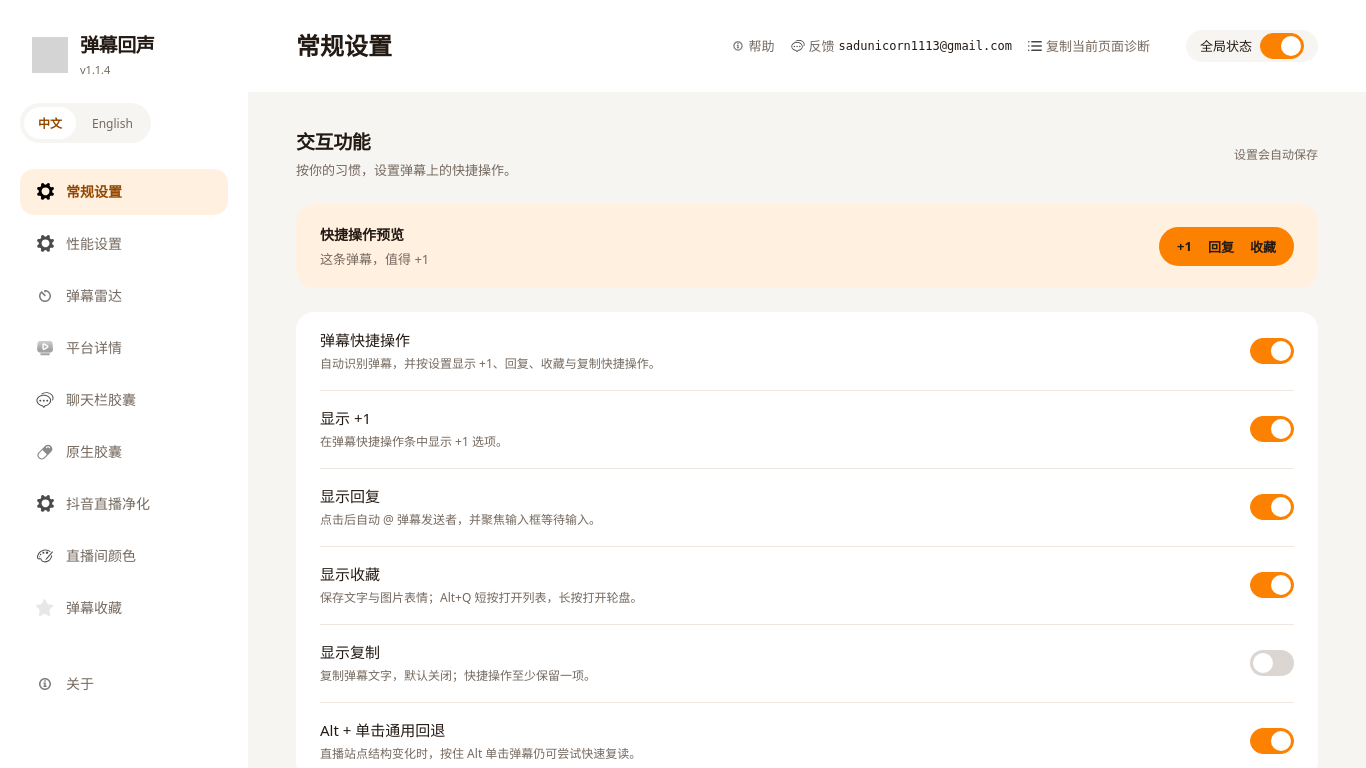
it: settings language preference › restores the previous language and reports failed persistence
Click the button "English".
click(112, 123)  # box [78,107,147,139]
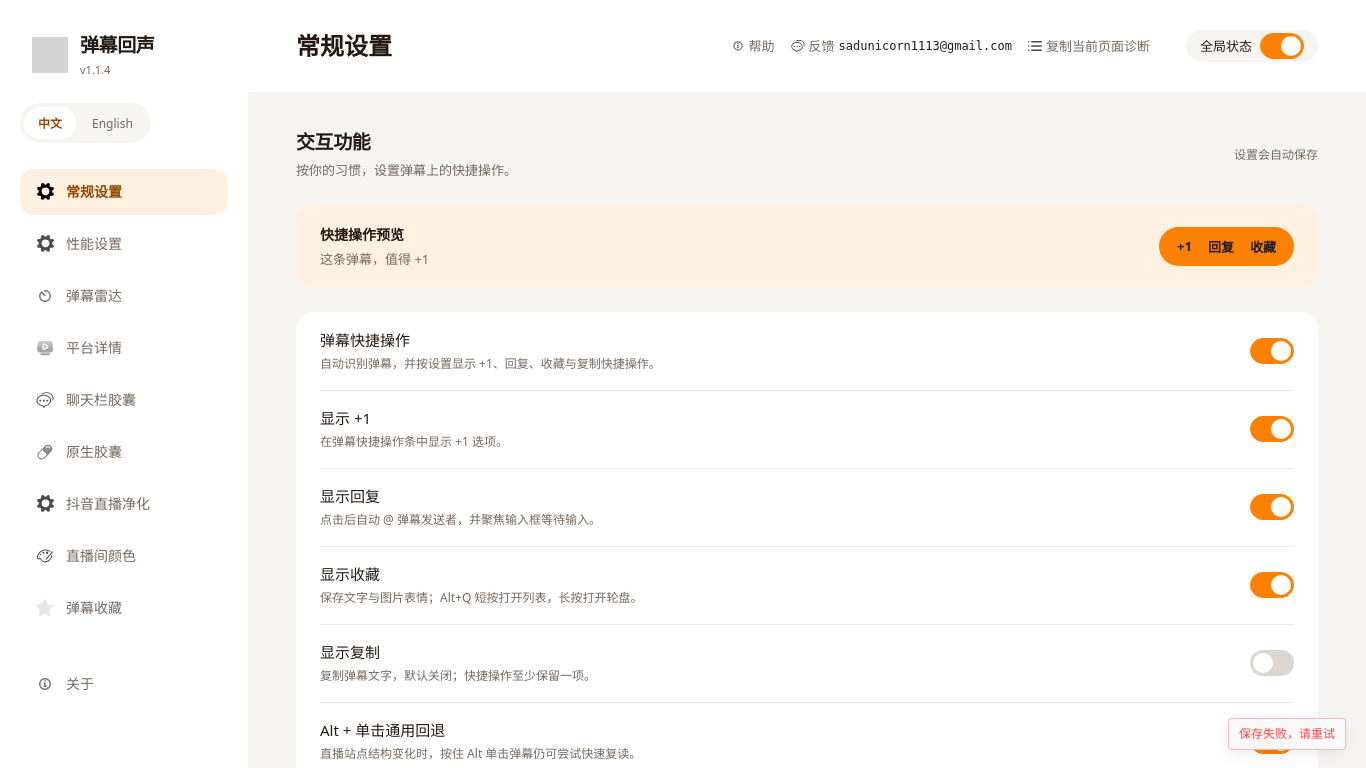
Expected: the text "保存失败" is shown, [1239,725,1335,742]
